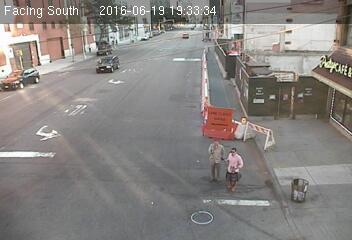neg: (234, 109, 255, 137), (283, 82, 302, 107), (267, 87, 283, 108)
pos: (216, 144, 251, 191), (198, 136, 229, 177)
